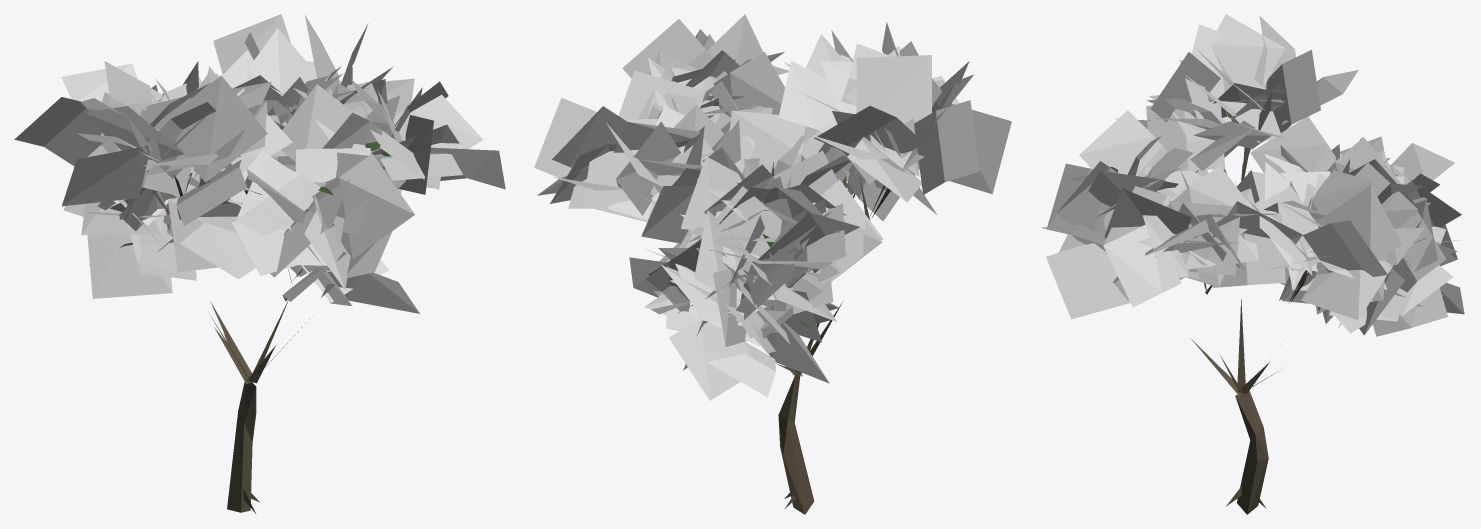
The model's file is Fond_CheneVert_0.fbx.
The picture shows the model from 3 angles, left to right: view 1: azimuth 30°, elevation 25°; view 2: azimuth 150°, elevation 25°; view 3: azimuth 270°, elevation 25°; orthographic projection. The views are drawn at different scales.
Parts seen in each view (by area): view 1: Fond_CheneVert_0; view 2: Fond_CheneVert_0; view 3: Fond_CheneVert_0.
Part boxes in pixels (left/top/right/bottom): Fond_CheneVert_0: left=14, top=14, right=505, bottom=514; Fond_CheneVert_0: left=534, top=14, right=1011, bottom=514; Fond_CheneVert_0: left=1041, top=14, right=1464, bottom=514.
Size of the model in its own units: 705 by 788 by 699.
